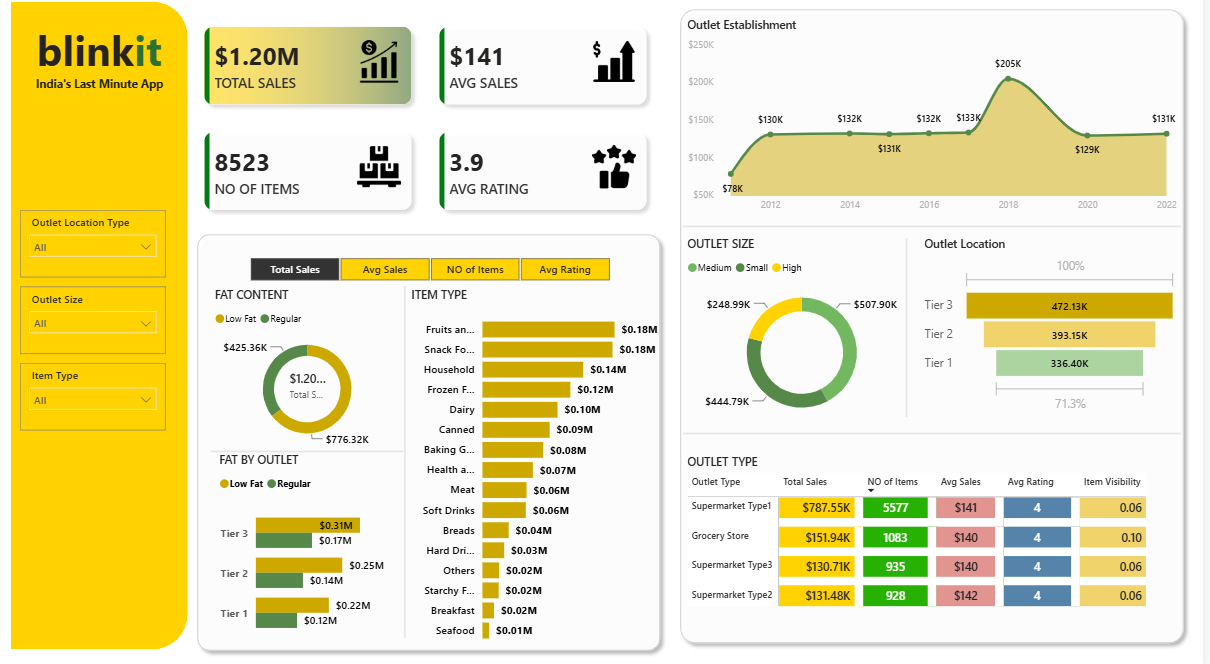

Layout of this report page (visuals, bound fields, positions):
{"tool":"powerbi","page":{"name":"Page 1","canvas":[1400,800],"ordinal":0},"visuals":[{"type":"shape","box":[20.7,26.9,204.6,750.3],"z":0},{"type":"textbox","box":[272.8,690.4,206.7,86.8],"z":1000},{"type":"textbox","box":[31,43.4,184,76.5],"z":2000},{"type":"textbox","box":[37.2,105.4,173.6,28.9],"z":3000},{"type":"cardVisual","fields":{"Data":["BlinkIT Grocery Data.Total Sales","BlinkIT Grocery Data.Avg Sales","BlinkIT Grocery Data.NO of Items","BlinkIT Grocery Data.Avg Rating"]},"box":[215.3,26,571.4,270.9],"z":4000},{"type":"shape","box":[227.5,286.5,554,500.2],"z":5000},{"type":"donutChart","title":"FAT CONTENT","fields":{"Y":["BlinkIT Grocery Data.Total Sales"],"Category":["BlinkIT Grocery Data.Item Fat Content"]},"box":[252.2,355.5,223.2,192.2],"z":6000},{"type":"slicer","fields":{"Values":["Matrix.Matrix"]},"box":[272.8,316.2,465.1,39.3],"z":7000},{"type":"cardVisual","fields":{"Data":["BlinkIT Grocery Data.Total Sales"]},"box":[314.2,436.1,101.3,68.2],"z":8000},{"type":"clusteredBarChart","title":"FAT BY OUTLET","fields":{"Y":["BlinkIT Grocery Data.Total Sales"],"Category":["BlinkIT Grocery Data.Outlet Location Type"],"Series":["BlinkIT Grocery Data.Item Fat Content"]},"box":[256.3,547.7,219.1,229.4],"z":9000},{"type":"shape","box":[252.2,537.4,223.2,20.7],"z":10000},{"type":"shape","box":[432,355.5,88.9,407.2],"z":11000},{"type":"barChart","title":"ITEM TYPE","fields":{"Y":["BlinkIT Grocery Data.Total Sales"],"Category":["BlinkIT Grocery Data.Item Type"]},"box":[479.5,355.5,295.6,421.7],"z":12000},{"type":"shape","box":[786.7,26,600.9,752],"z":13000},{"type":"lineChart","title":"Outlet Establishment ","fields":{"Y":["BlinkIT Grocery Data.Total Sales"],"Category":["BlinkIT Grocery Data.Outlet Establishment Year"]},"box":[798.9,43.4,576.6,234.4],"z":14000},{"type":"shape","box":[798.9,267.4,576.6,38.2],"z":15000},{"type":"donutChart","title":"OUTLET SIZE","fields":{"Y":["BlinkIT Grocery Data.Total Sales"],"Category":["BlinkIT Grocery Data.Outlet Size"]},"box":[798.9,297,274.4,225.8],"z":16000},{"type":"shape","box":[1015.9,300.4,83.4,206.7],"z":17000},{"type":"funnel","title":" Outlet Location ","fields":{"Category":["BlinkIT Grocery Data.Outlet Location Type"],"Y":["Sum(BlinkIT Grocery Data.Sales)"]},"box":[1073.3,297,302.2,210.1],"z":18000},{"type":"shape","box":[798.9,507.1,576.6,38.2],"z":19000},{"type":"pivotTable","title":"OUTLET TYPE","fields":{"Rows":["BlinkIT Grocery Data.Outlet Type"],"Values":["BlinkIT Grocery Data.Total Sales","BlinkIT Grocery Data.NO of Items","BlinkIT Grocery Data.Avg Sales","BlinkIT Grocery Data.Avg Rating","Avg(BlinkIT Grocery Data.Item Visibility)"]},"box":[798.9,548.8,600.9,204.9],"z":20000},{"type":"slicer","fields":{"Values":["BlinkIT Grocery Data.Outlet Location Type"]},"box":[31.3,267.4,168.5,78.1],"z":21000},{"type":"slicer","fields":{"Values":["BlinkIT Grocery Data.Outlet Size"]},"box":[31.3,356,168.5,78.1],"z":22000},{"type":"slicer","fields":{"Values":["BlinkIT Grocery Data.Item Type"]},"box":[31.3,444.6,168.5,78.1],"z":23000}]}

Visuals, with their boxes on the page's 1400x800 design canvas (x1, y1, x2, y2). These are canvas units, not pixel positions in the 1210x664 screenshot, which may show the page scaled, cropped or inside an application window:
shape: pyautogui.locateOnScreen(21, 27, 225, 777)
textbox: pyautogui.locateOnScreen(273, 690, 480, 777)
textbox: pyautogui.locateOnScreen(31, 43, 215, 120)
textbox: pyautogui.locateOnScreen(37, 105, 211, 134)
cardVisual - BlinkIT Grocery Data.Total Sales x BlinkIT Grocery Data.Avg Sales: pyautogui.locateOnScreen(215, 26, 787, 297)
shape: pyautogui.locateOnScreen(228, 286, 782, 787)
"FAT CONTENT" donutChart: pyautogui.locateOnScreen(252, 356, 475, 548)
slicer - Matrix.Matrix: pyautogui.locateOnScreen(273, 316, 738, 356)
cardVisual - BlinkIT Grocery Data.Total Sales: pyautogui.locateOnScreen(314, 436, 416, 504)
"FAT BY OUTLET" clusteredBarChart: pyautogui.locateOnScreen(256, 548, 475, 777)
shape: pyautogui.locateOnScreen(252, 537, 475, 558)
shape: pyautogui.locateOnScreen(432, 356, 521, 763)
"ITEM TYPE" barChart: pyautogui.locateOnScreen(480, 356, 775, 777)
shape: pyautogui.locateOnScreen(787, 26, 1388, 778)
"Outlet Establishment " lineChart: pyautogui.locateOnScreen(799, 43, 1376, 278)
shape: pyautogui.locateOnScreen(799, 267, 1376, 306)
"OUTLET SIZE" donutChart: pyautogui.locateOnScreen(799, 297, 1073, 523)
shape: pyautogui.locateOnScreen(1016, 300, 1099, 507)
" Outlet Location " funnel: pyautogui.locateOnScreen(1073, 297, 1376, 507)
shape: pyautogui.locateOnScreen(799, 507, 1376, 545)
"OUTLET TYPE" pivotTable: pyautogui.locateOnScreen(799, 549, 1400, 754)
slicer - BlinkIT Grocery Data.Outlet Location Type: pyautogui.locateOnScreen(31, 267, 200, 346)
slicer - BlinkIT Grocery Data.Outlet Size: pyautogui.locateOnScreen(31, 356, 200, 434)
slicer - BlinkIT Grocery Data.Item Type: pyautogui.locateOnScreen(31, 445, 200, 523)
